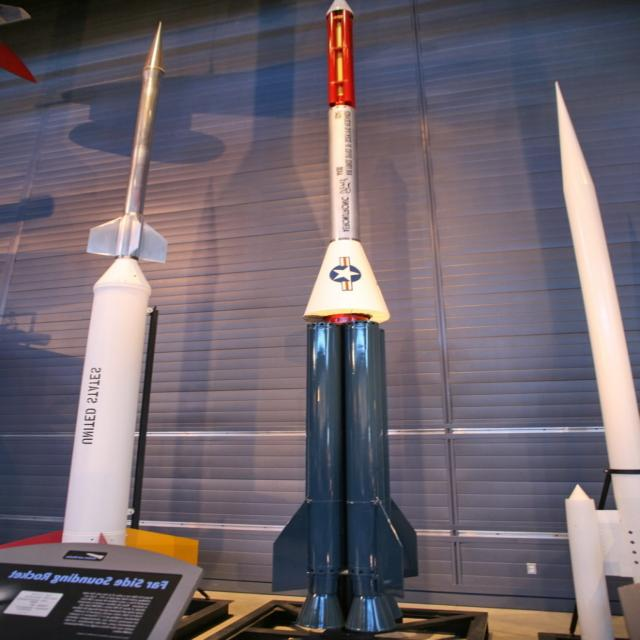rocket: (297, 3, 427, 634)
